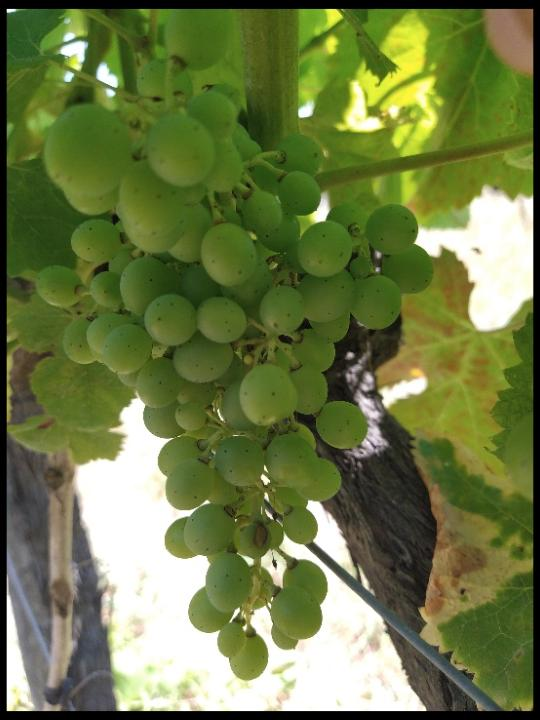grape: (36, 11, 437, 682)
